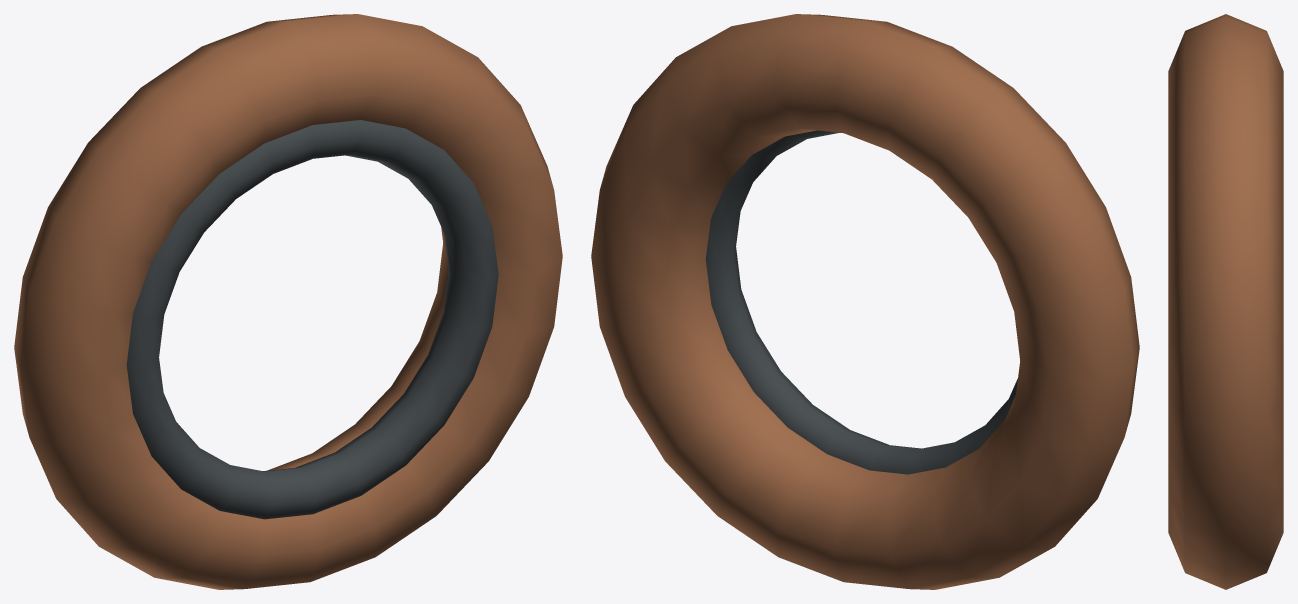
Rendered from undercity-sewers-and-thieves-den-iron-pipe-flange-5a4d2841__27199.glb.
The picture shows the model from 3 angles, left to right: view 1: azimuth 30°, elevation 25°; view 2: azimuth 150°, elevation 25°; view 3: azimuth 270°, elevation 25°; orthographic projection. The views are drawn at different scales.
Visible parts, largest first — view 1: iron-pipe-flange; view 2: iron-pipe-flange; view 3: iron-pipe-flange.
Part boxes in pixels (x1,y1,x2,y2): iron-pipe-flange: (14, 14, 562, 589); iron-pipe-flange: (591, 14, 1139, 589); iron-pipe-flange: (1168, 14, 1283, 589).
Size of the model in its own units: 0.6 by 0.6 by 0.12.
